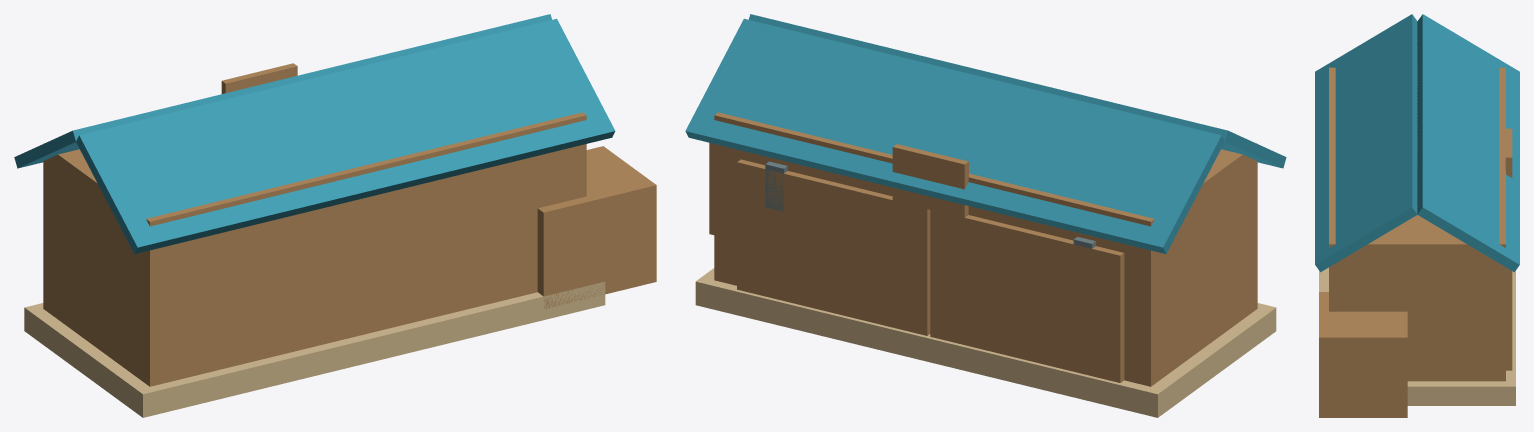
File: barn.source.glb
3 views of the same model, side by side, from view 1: azimuth 30°, elevation 25°; view 2: azimuth 150°, elevation 25°; view 3: azimuth 270°, elevation 25° (orthographic). The views are drawn at different scales.
Parts seen in each view (by area): view 1: barn-timber-body-mesh, barn-roof-0.52-mesh, barn-foundation-mesh, barn-rear-lean-to-mesh, barn-roof--0.52-mesh, barn-hayloft-door-mesh; view 2: barn-roof--0.52-mesh, barn-timber-body-mesh, barn-left-door-mesh, barn-right-door-mesh, barn-foundation-mesh, barn-roof-0.52-mesh, barn-hayloft-door-mesh, barn-vent-1.5-mesh, barn-rear-lean-to-mesh; view 3: barn-timber-body-mesh, barn-roof-0.52-mesh, barn-roof--0.52-mesh, barn-rear-lean-to-mesh, barn-foundation-mesh, barn-right-door-mesh, barn-hayloft-door-mesh.
Part boxes in pixels (bbox=[...]): barn-timber-body-mesh: bbox=[43, 112, 586, 386]; barn-roof-0.52-mesh: bbox=[76, 18, 615, 254]; barn-foundation-mesh: bbox=[24, 281, 605, 417]; barn-rear-lean-to-mesh: bbox=[537, 146, 656, 308]; barn-roof--0.52-mesh: bbox=[14, 14, 551, 168]; barn-hayloft-door-mesh: bbox=[221, 63, 297, 93]; barn-roof--0.52-mesh: bbox=[685, 18, 1224, 253]; barn-timber-body-mesh: bbox=[714, 112, 1257, 386]; barn-left-door-mesh: bbox=[930, 209, 1124, 382]; barn-right-door-mesh: bbox=[737, 159, 930, 335]; barn-foundation-mesh: bbox=[695, 268, 1276, 417]; barn-roof-0.52-mesh: bbox=[748, 14, 1286, 168]; barn-hayloft-door-mesh: bbox=[892, 144, 968, 217]; barn-vent-1.5-mesh: bbox=[765, 161, 787, 211]; barn-rear-lean-to-mesh: bbox=[709, 143, 714, 234]; barn-timber-body-mesh: bbox=[1329, 67, 1505, 381]; barn-roof-0.52-mesh: bbox=[1315, 14, 1417, 272]; barn-roof--0.52-mesh: bbox=[1417, 14, 1519, 272]; barn-rear-lean-to-mesh: bbox=[1319, 292, 1407, 417]; barn-foundation-mesh: bbox=[1319, 267, 1515, 405]; barn-right-door-mesh: bbox=[1506, 267, 1512, 370]; barn-hayloft-door-mesh: bbox=[1505, 128, 1512, 177].
Bounding box in the file's own units: 5.08 × 2.27 × 2.08.
